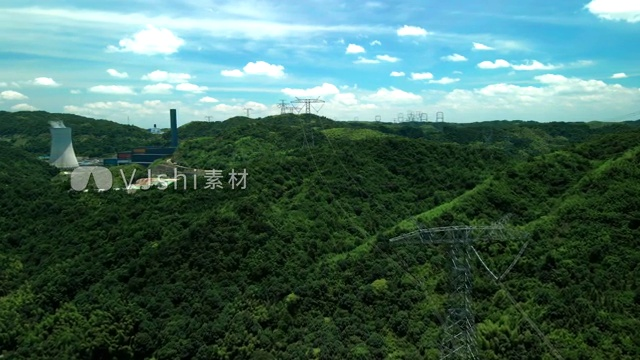tower_body: (384, 220, 527, 360), (285, 92, 331, 157)
tower_foot: (438, 330, 481, 360), (299, 134, 318, 154)
tower_head: (388, 223, 521, 252), (287, 95, 326, 106)
